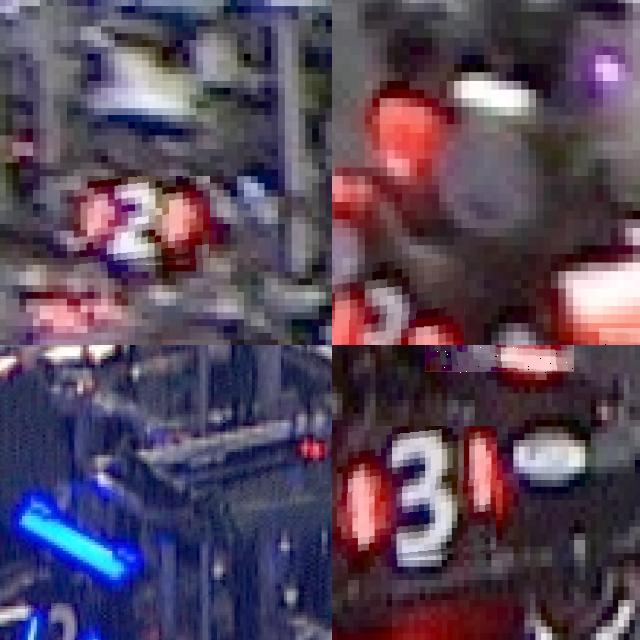B2: (22, 603, 100, 640)
R2: (74, 176, 210, 272)
R3: (337, 426, 497, 566), (332, 258, 465, 345), (425, 345, 574, 373)
